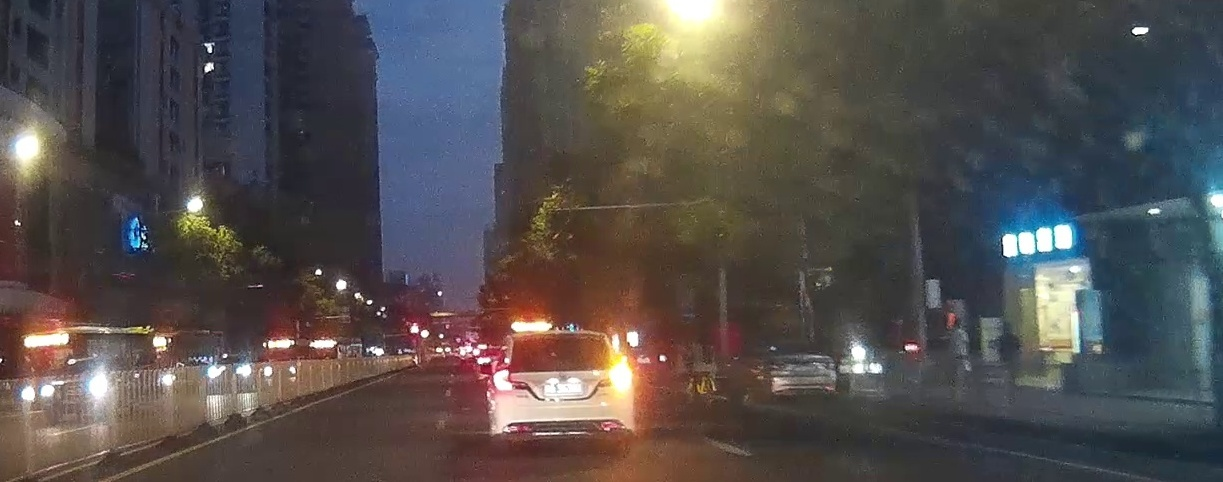L_light: (493, 369, 513, 392)
R_light: (610, 363, 631, 388)
T_light: (552, 331, 572, 337)
night-no: (491, 330, 634, 454)
